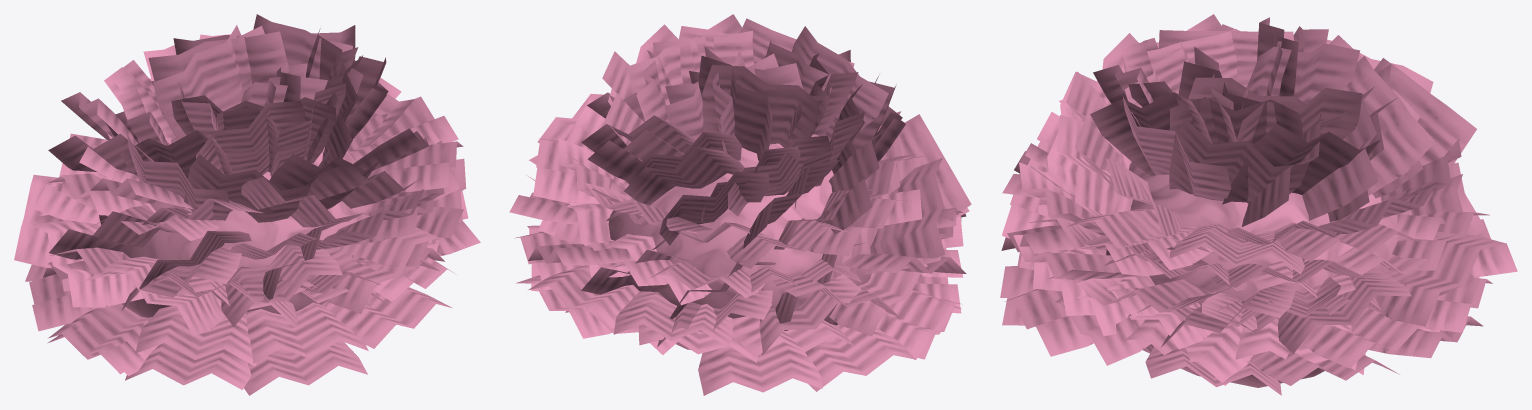
File: coral14_FBX_still.fbx
3 views of the same model, side by side, from view 1: azimuth 30°, elevation 25°; view 2: azimuth 150°, elevation 25°; view 3: azimuth 270°, elevation 25° (orthographic). The views are drawn at different scales.
Parts seen in each view (by area): view 1: coral14_gameasset; view 2: coral14_gameasset; view 3: coral14_gameasset.
Part boxes in pixels (left/top/right/bottom): coral14_gameasset: left=14, top=14, right=480, bottom=395; coral14_gameasset: left=509, top=14, right=971, bottom=395; coral14_gameasset: left=1000, top=14, right=1517, bottom=395.
Size of the model in its own units: 1.65 by 1.11 by 1.62.
1 material, 1 textured.
